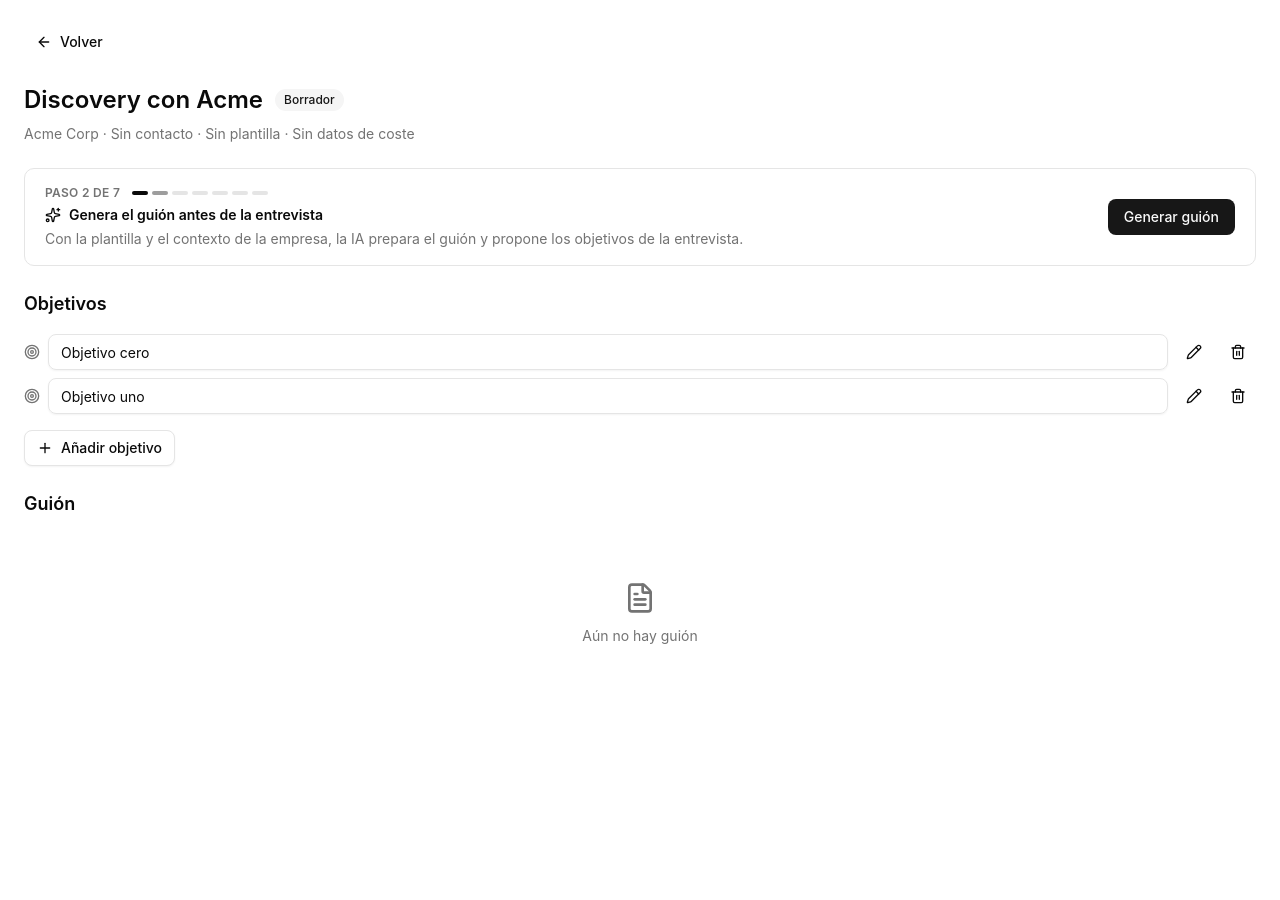
Test: ObjectivesSection (edición fusionada SPEC-042) › in-section editing › persists the edited objectives on save showing the "Objetivos guardados" toast and hiding the action bar
Step 1. Type " bis" into the field named "Objetivo 1" → [608, 352], box top-left (48, 334), bottom-right (1168, 370)
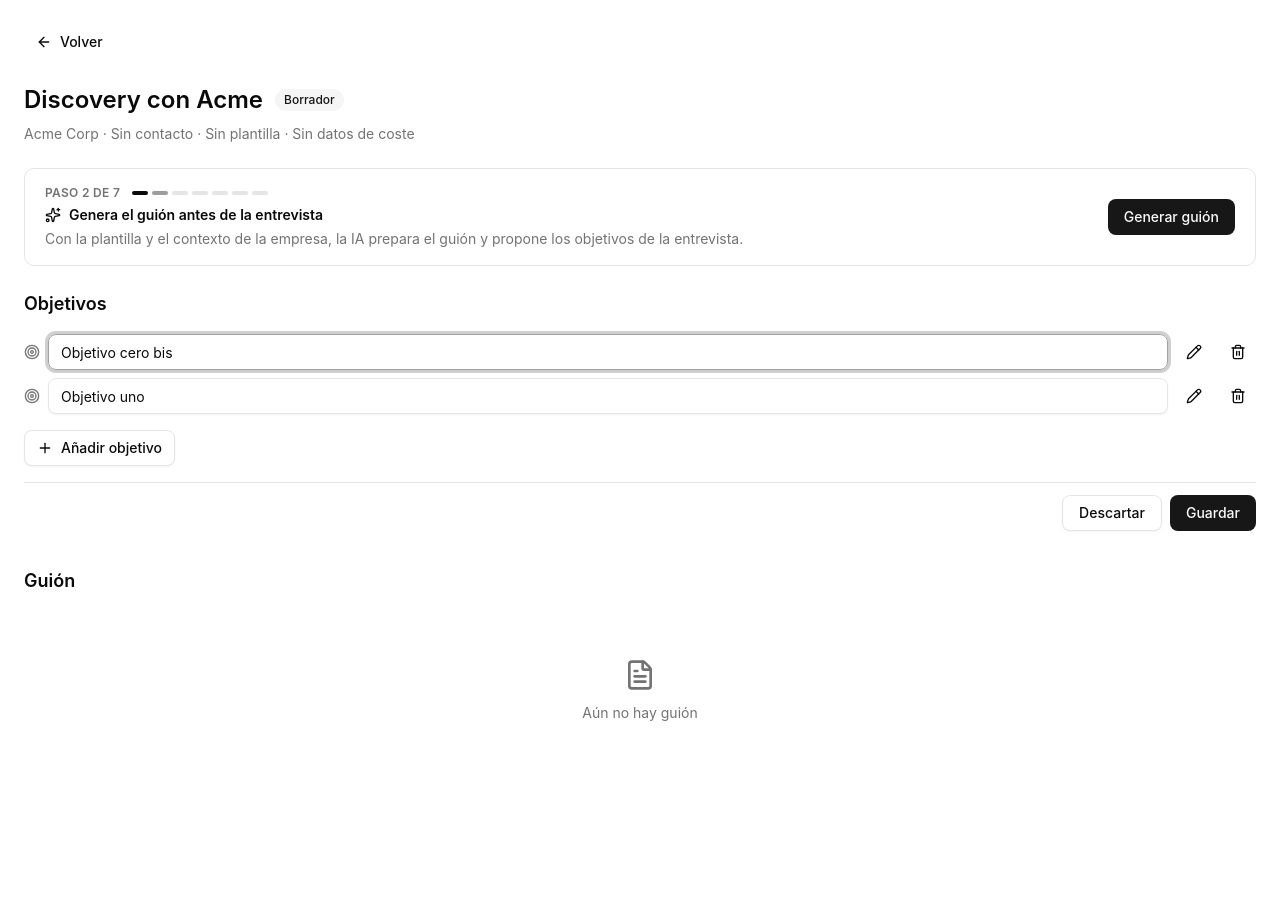
Step 2. Click the button "Guardar" → [1213, 513], box top-left (1170, 495), bottom-right (1256, 531)
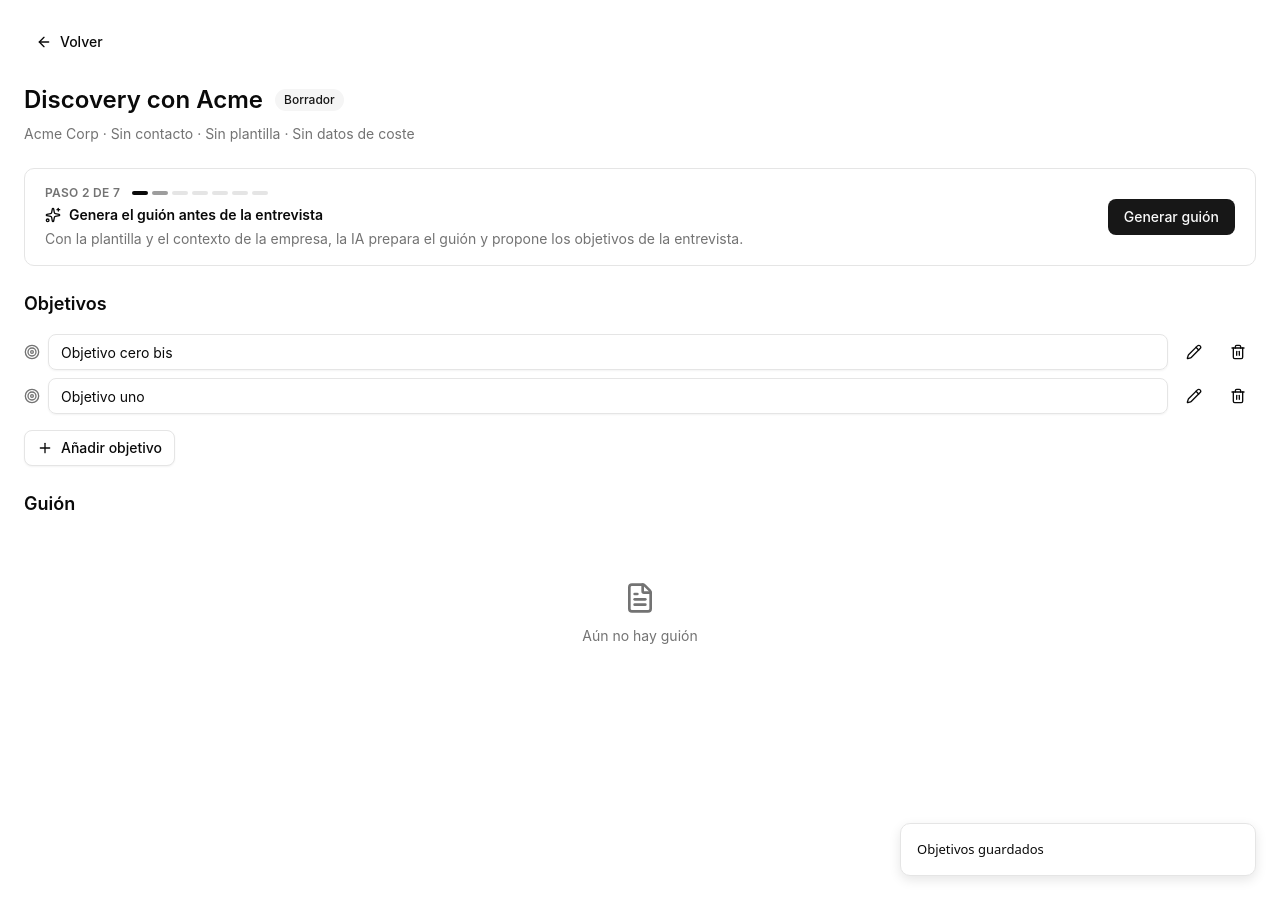
Check: the element with test id "objectives-editor-actions" is gone
